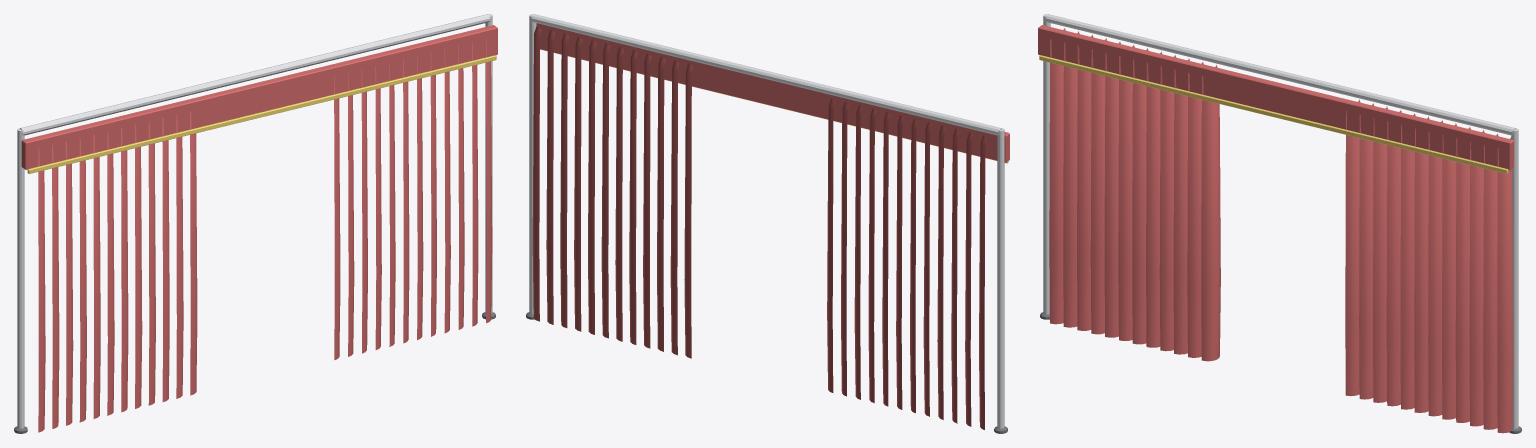
Rendered from village-hall-and-community-events-stage-curtain-rail-20c284fc.glb.
3 views of the same model, side by side, from view 1: azimuth 30°, elevation 25°; view 2: azimuth 150°, elevation 25°; view 3: azimuth 330°, elevation 25° (orthographic).
Visible parts, largest first — view 1: stage-curtain-rail; view 2: stage-curtain-rail; view 3: stage-curtain-rail.
Part boxes in pixels (x1=…): stage-curtain-rail: x1=14, y1=14, x2=497, y2=433; stage-curtain-rail: x1=526, y1=14, x2=1009, y2=433; stage-curtain-rail: x1=1038, y1=14, x2=1521, y2=433.
Bounding box in the file's own units: 4 × 2.41 × 0.1859.
